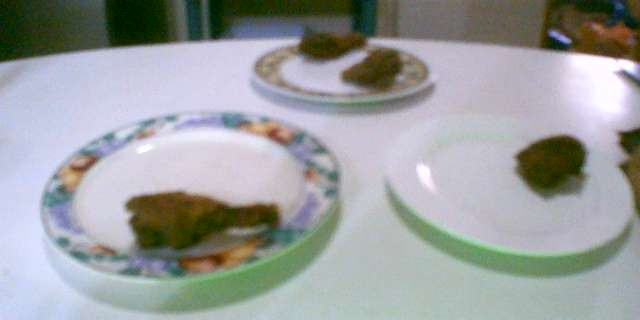chicken: (114, 189, 284, 254), (506, 132, 596, 196), (292, 16, 371, 63), (337, 47, 407, 95)
